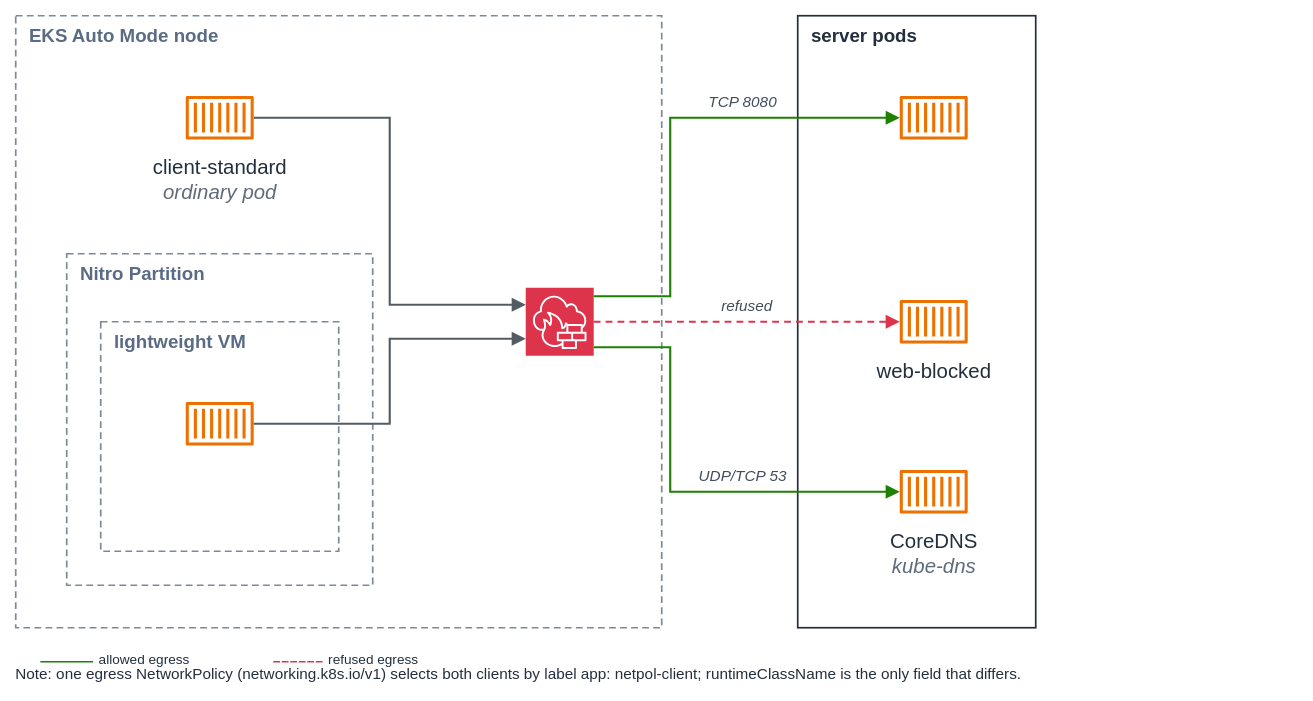
This 1313x701 diagram has some shape labels left out. Here are the shapes that lost their labels. From the top down, the centre of each, then its label:
(x=933, y=117): web-allowed
(x=559, y=321): NetworkPolicy egress filter
(x=219, y=423): client-sandboxed Nitro sandbox pod
